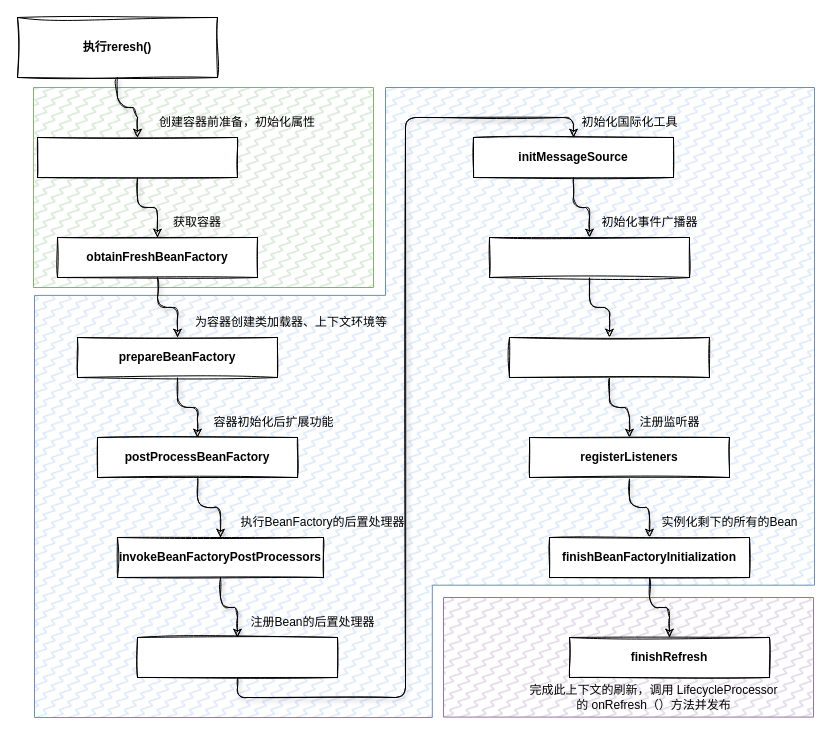
Some shapes in this 832 by 745 pixel diagram are drawn without their labels. The centre of each missing label's shape, as x and y in pixels:
"initApplicationEventMulticaster" belongs at [589,257].
"onRefresh" belongs at [609,357].
"prepareRefresh" belongs at [137,157].
"registerBeanPostProcessors" belongs at [237,657].
